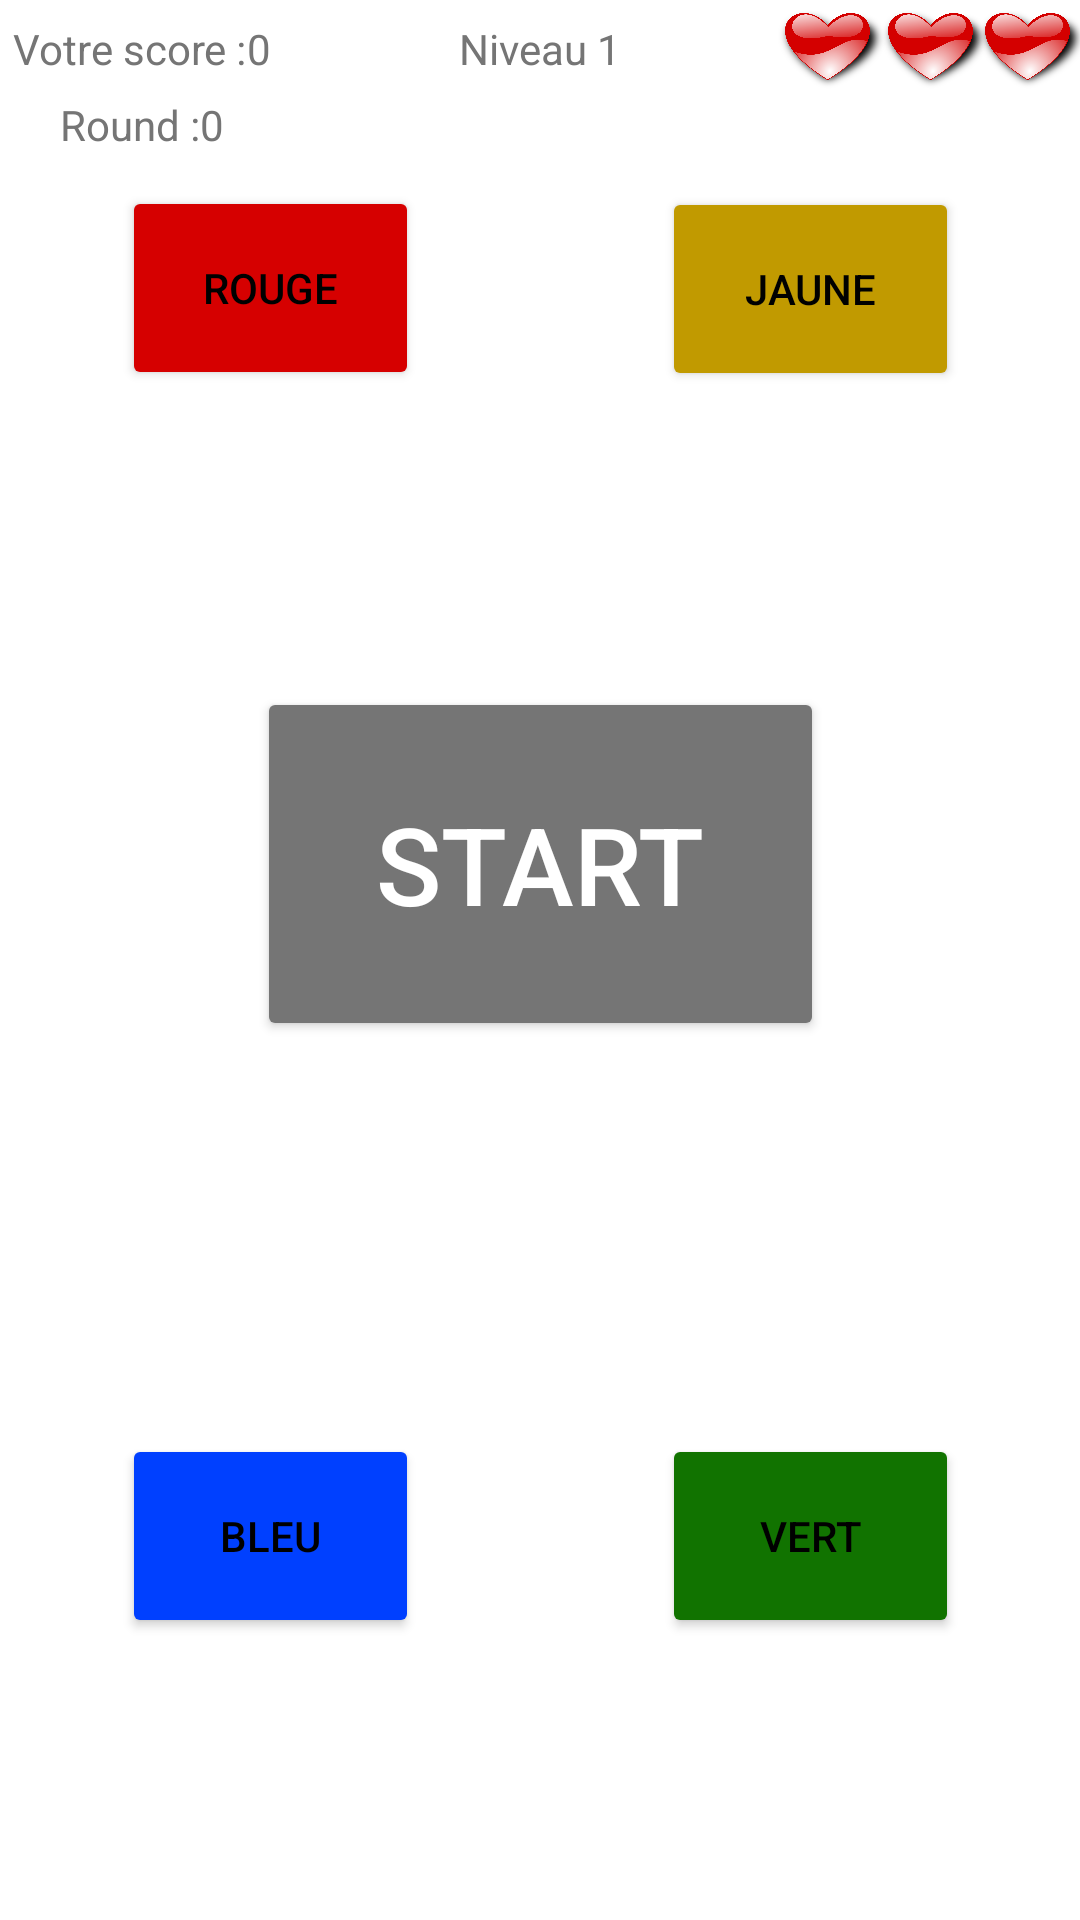

Point at icon controls on the screen. Image size 1080x1920, points as (x=x, y=y).
Image de Coeur pour la vie: (x=832, y=48), (x=1029, y=48)
